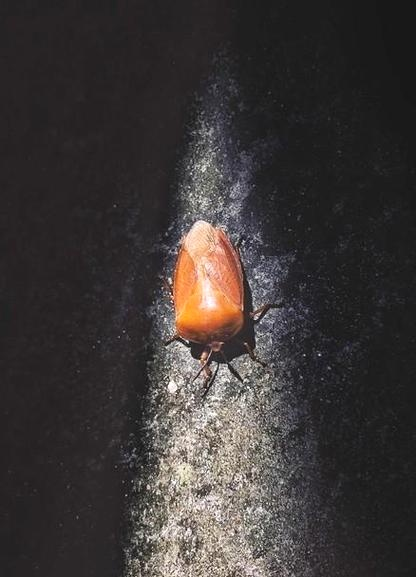Stink_Bug: (165, 219, 256, 351)
